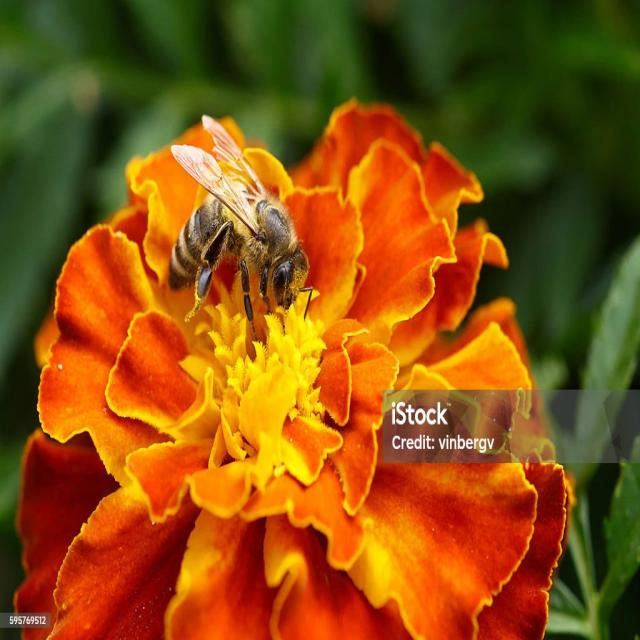bees: (167, 112, 314, 347)
